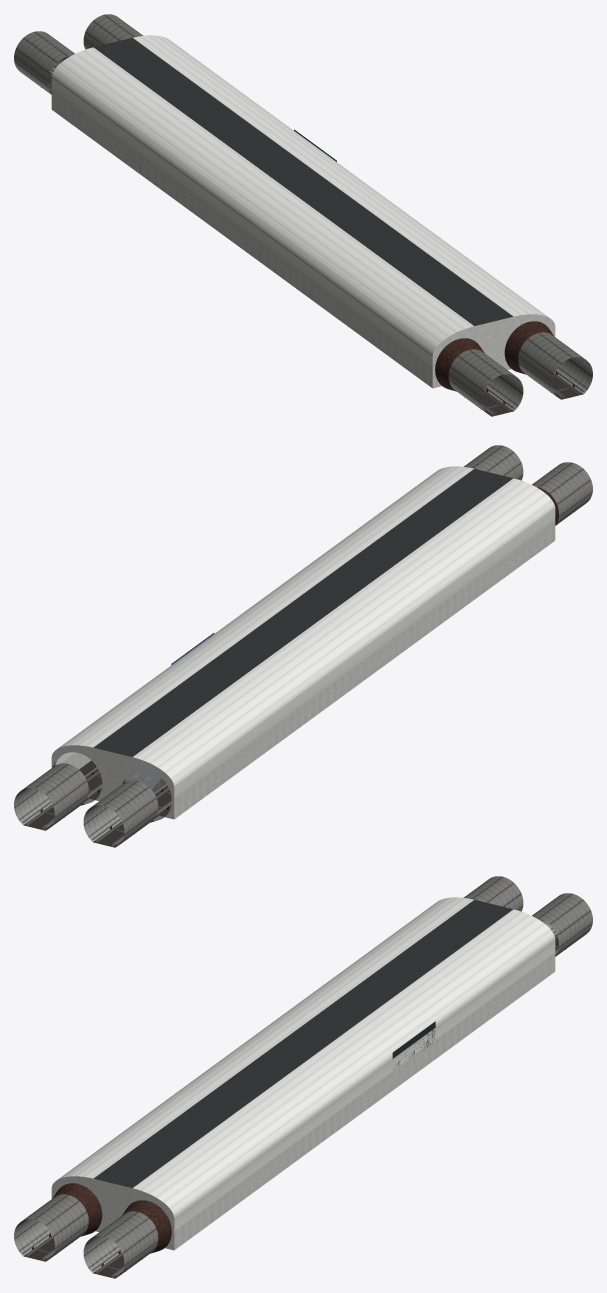
File: station_shields-road.glb
3 views of the same model, one above another, from view 1: azimuth 30°, elevation 25°; view 2: azimuth 150°, elevation 25°; view 3: azimuth 330°, elevation 25° (orthographic).
Visible parts, largest first — view 1: hall_shell, end_walls; view 2: hall_shell, end_walls; view 3: hall_shell, end_walls.
Part boxes in pixels (x1=…): hall_shell: x1=41, y1=35, x2=584, y2=415; end_walls: x1=14, y1=14, x2=592, y2=416; hall_shell: x1=22, y1=466, x2=557, y2=846; end_walls: x1=14, y1=445, x2=592, y2=847; hall_shell: x1=22, y1=897, x2=565, y2=1277; end_walls: x1=14, y1=876, x2=592, y2=1278.
Bounding box in the file's own units: 10.04 × 4.69 × 66.4.
31 materials, 22 textured.
